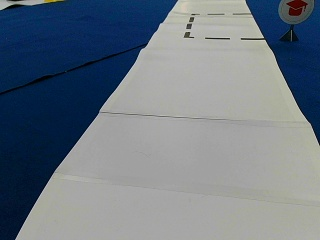school: (277, 0, 314, 24)
